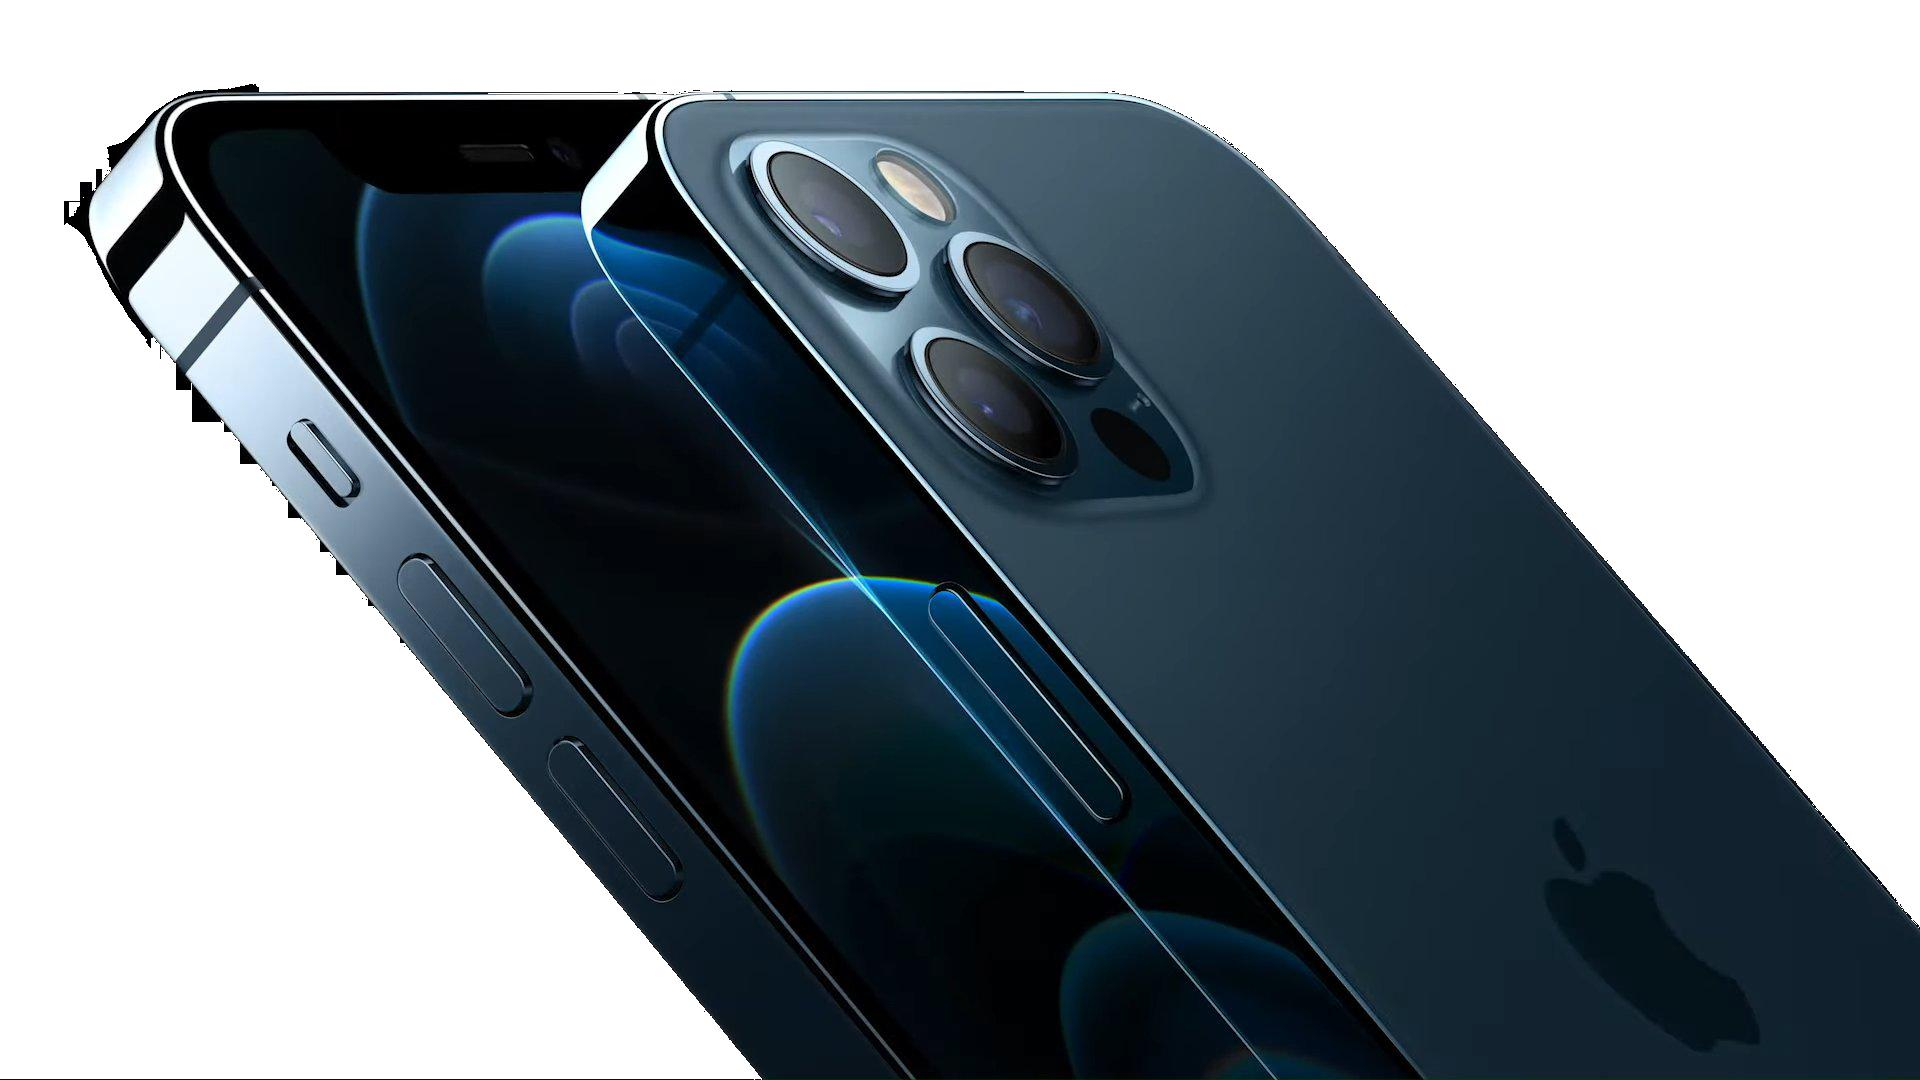-iphone12: (80, 26, 1920, 1073), (50, 73, 1615, 760), (646, 45, 1213, 566)
